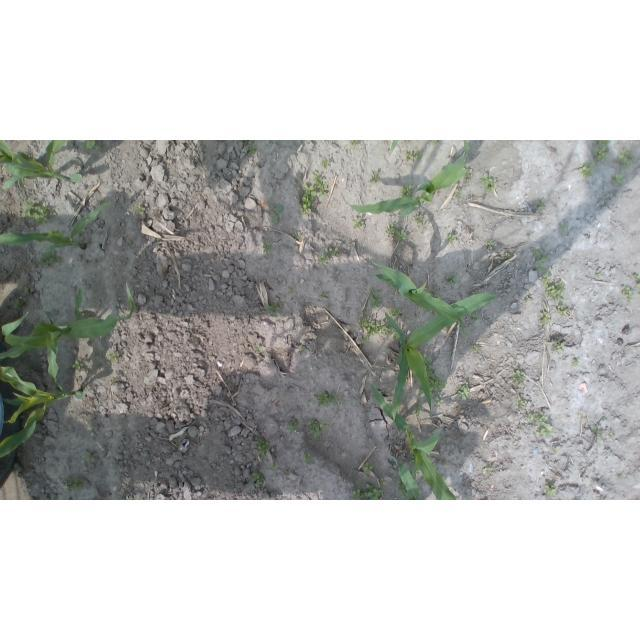Maize: (384, 291, 498, 435), (0, 280, 136, 393), (369, 375, 459, 499), (340, 141, 471, 218), (370, 260, 469, 347), (1, 366, 88, 461), (1, 200, 114, 253), (1, 141, 84, 192), (387, 455, 425, 500), (389, 141, 399, 154)
Weeds: (517, 393, 555, 438), (532, 249, 566, 299), (418, 353, 446, 408), (360, 309, 402, 343), (299, 169, 330, 215), (582, 413, 619, 443), (17, 200, 55, 225), (312, 391, 346, 410), (304, 418, 332, 440), (351, 483, 384, 499), (38, 247, 63, 267), (385, 222, 408, 242), (477, 172, 497, 193), (591, 140, 610, 160), (319, 247, 340, 265), (616, 148, 634, 166), (254, 438, 270, 456), (270, 201, 283, 223), (404, 150, 425, 163), (369, 288, 383, 307), (287, 416, 299, 436), (397, 478, 408, 498), (65, 479, 85, 490), (511, 369, 525, 384), (543, 483, 557, 498), (250, 472, 264, 487), (413, 212, 427, 226), (580, 163, 594, 177), (362, 461, 375, 475), (538, 311, 551, 325), (555, 303, 569, 316), (83, 142, 102, 151), (481, 461, 495, 473), (622, 285, 634, 299), (457, 384, 467, 400), (352, 216, 365, 228), (73, 360, 84, 374), (403, 181, 414, 195), (263, 241, 274, 255), (306, 453, 317, 467), (370, 169, 381, 183), (263, 305, 277, 316), (465, 166, 474, 182), (246, 141, 257, 154), (553, 341, 566, 352), (444, 274, 457, 285), (470, 343, 484, 353), (106, 353, 120, 363), (413, 406, 424, 418), (611, 176, 625, 185), (131, 206, 146, 214), (536, 197, 545, 210), (445, 233, 456, 243), (454, 187, 463, 198), (560, 221, 569, 232), (633, 272, 639, 288), (487, 242, 497, 251), (87, 453, 96, 463), (253, 346, 263, 355), (22, 288, 31, 297), (12, 300, 21, 309), (320, 158, 329, 167), (410, 457, 417, 468), (431, 141, 442, 148), (550, 448, 558, 457), (350, 140, 362, 146), (573, 358, 580, 367), (110, 377, 118, 383), (597, 269, 603, 276), (288, 287, 294, 294), (271, 463, 278, 469), (280, 301, 284, 309)
